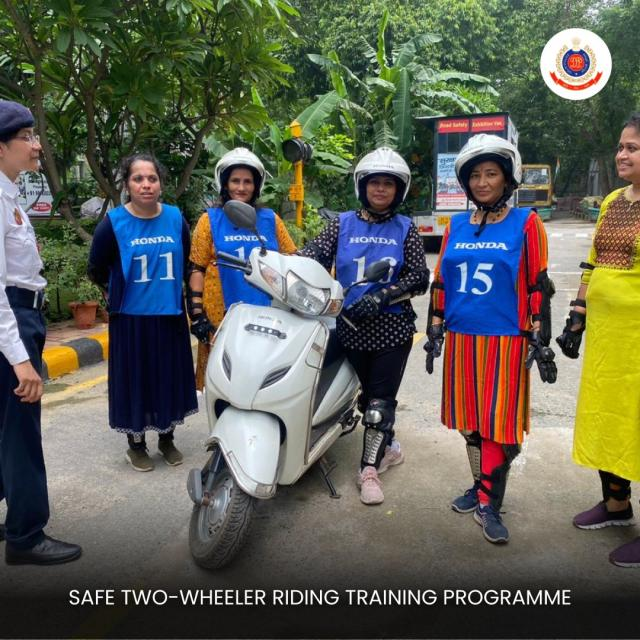motorcycle: (188, 249, 360, 568)
